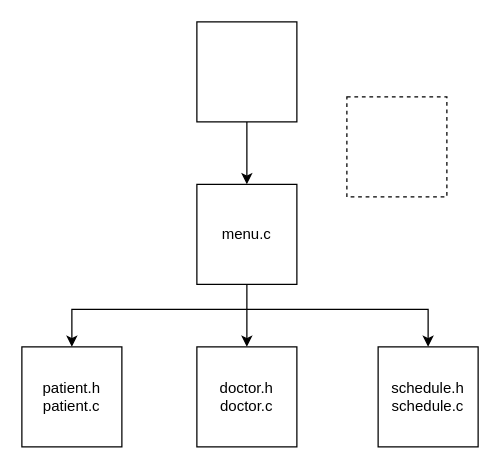
This 500x469 diagram has some shape labels left out. The shapes that lost their labels are listed below. From the top down, each one's box as (x1, y1, x2, y2) in pixels, then its label:
(196, 21, 297, 122): main.c
(346, 96, 447, 197): tools.h tools.c
